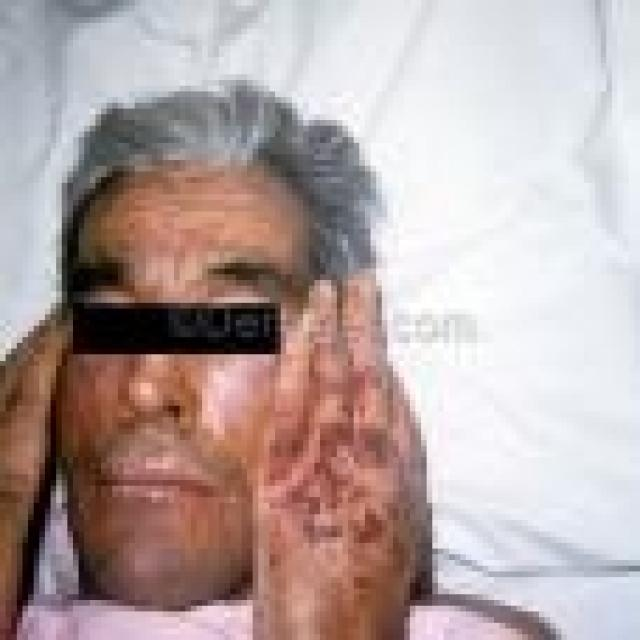Melasma: (260, 367, 421, 566)
